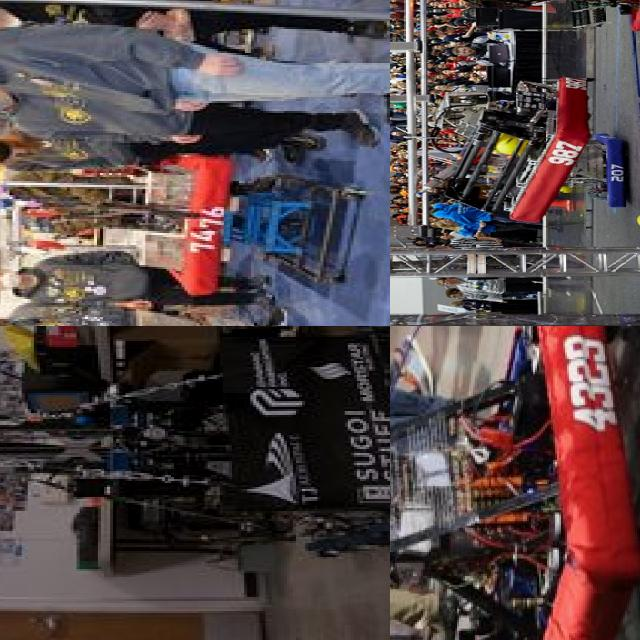FRC-Robots: (0, 326, 390, 541), (390, 326, 630, 640), (0, 138, 235, 292), (415, 61, 601, 238), (390, 0, 640, 41), (556, 122, 636, 220)
